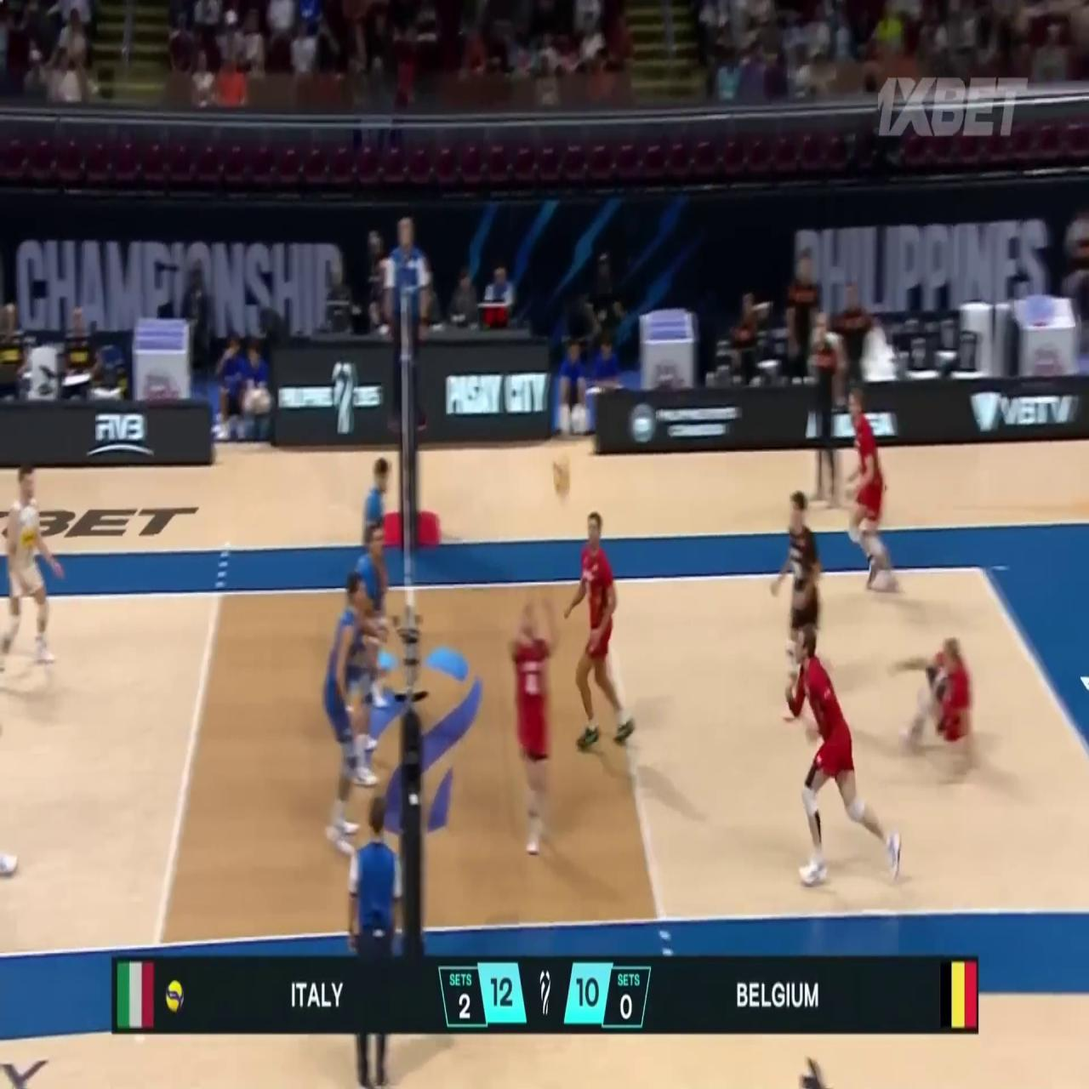ball: (552, 457, 570, 497)
